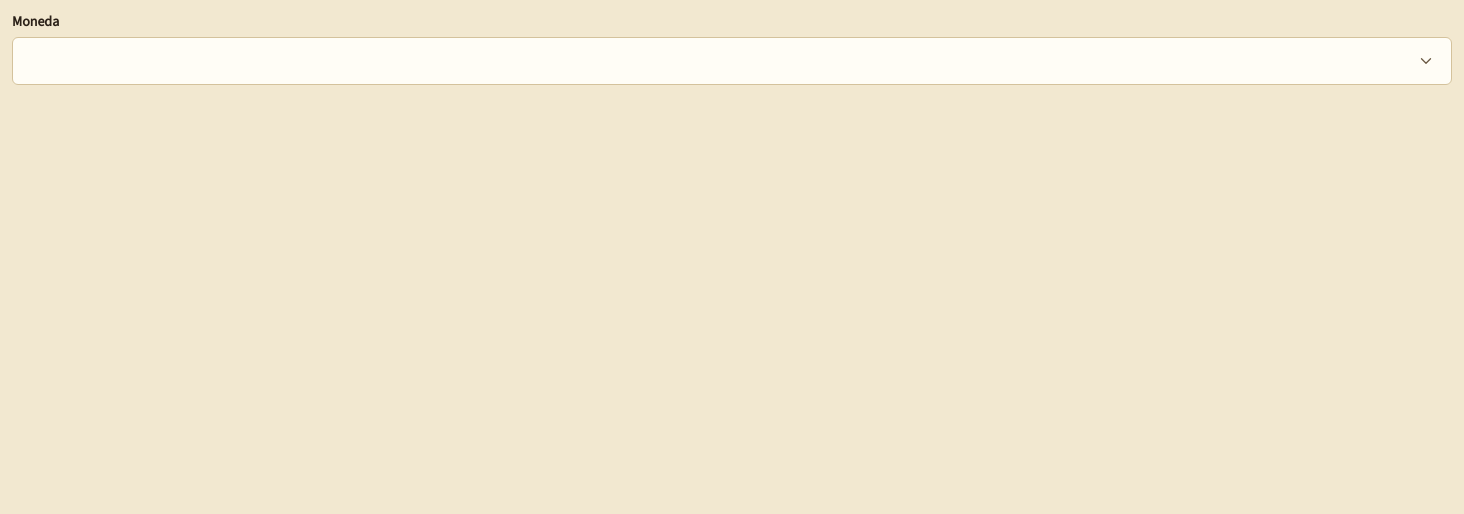
SelectorConBuscador › el contador: «7 monedas», «1 moneda» y «5 de 27» al buscar
Later steps or results of the test are not shown.
Click the dropdown named "Moneda".
click(1426, 61)  # box [12,37,1452,85]
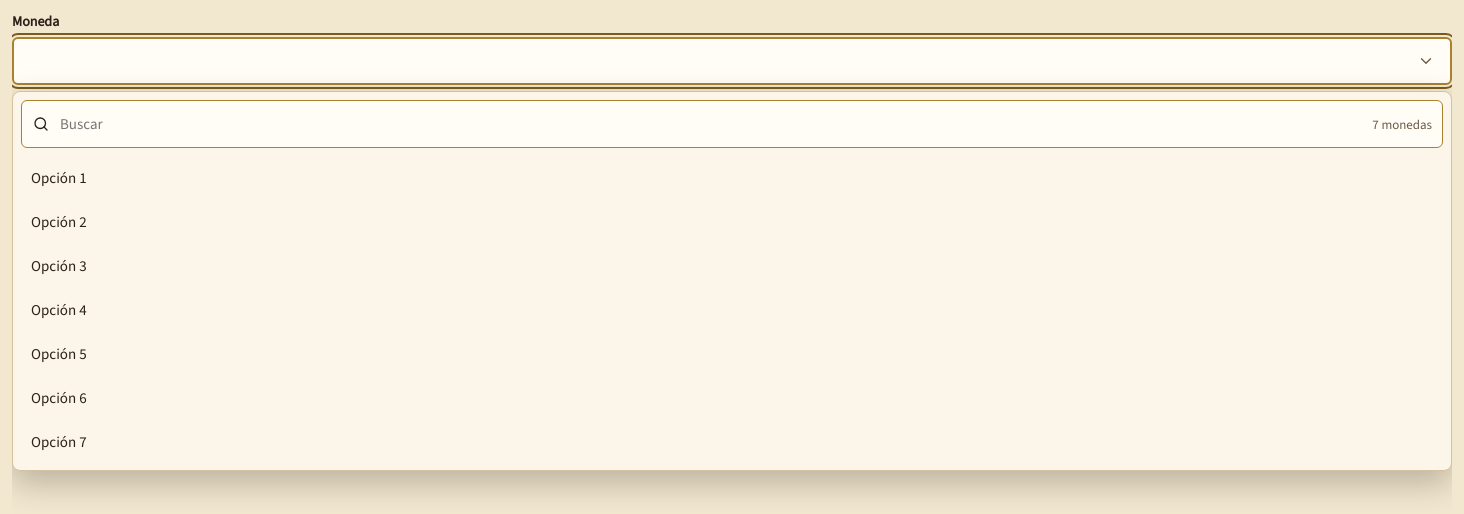
Check: the text "7 monedas" is shown, box [1372,116,1432,132]
